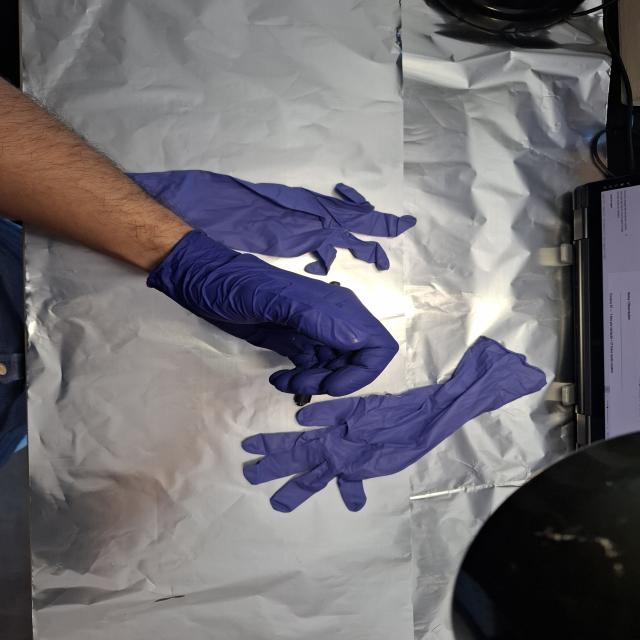glove_on: (142, 228, 403, 400)
